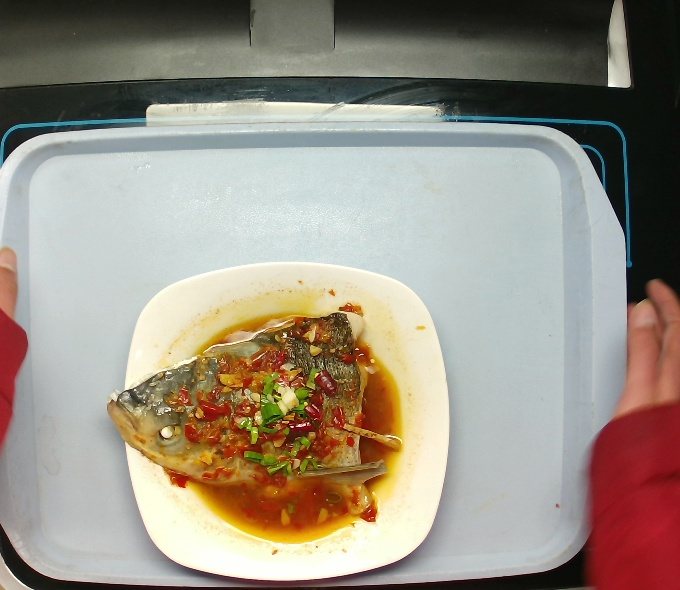wcq-DuoJiaoYuTou: (106, 303, 406, 529)
